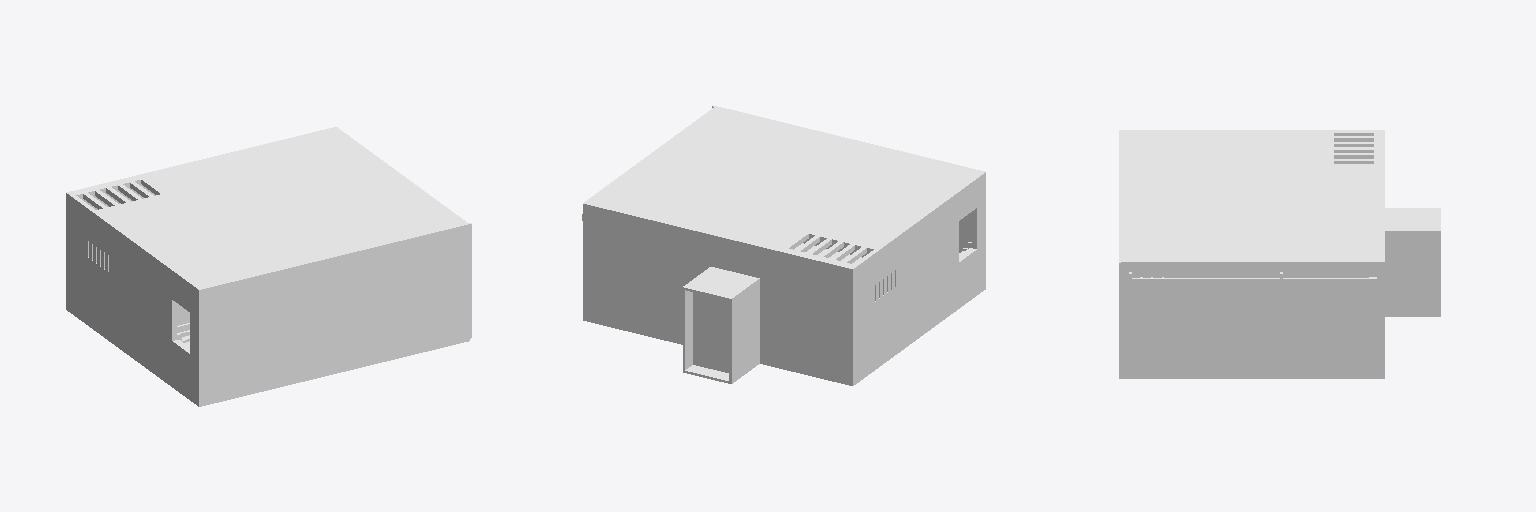
Rendered from baseroom.obj.
3 renders of one model, left to right at view 1: azimuth 30°, elevation 25°; view 2: azimuth 150°, elevation 25°; view 3: azimuth 270°, elevation 25°, orthographic.
Parts seen in each view (by area): view 1: object 1; view 2: object 1; view 3: object 1.
Boxes of the visible parts, box(x1,y1,x2,y2) form: object 1: box(66, 127, 471, 406); object 1: box(582, 105, 985, 385); object 1: box(1119, 130, 1440, 378).
Size of the model in its own units: 11.8 by 4.8 by 12.